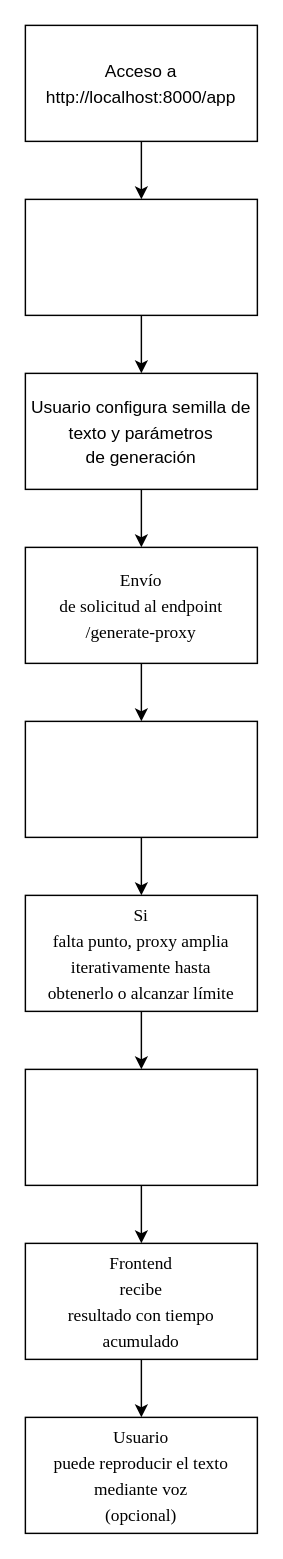
The diagram is 283 pixels wide and 1559 high, and some of its shapes have lost their labels. The centre of each missing label's shape, as x and y in pixels:
Backend valida entrada y consulta API remota: the point at 140,778
Frontend consulta configuración del backend: the point at 140,256
Postprocesamiento y normalización del texto: the point at 140,1126
